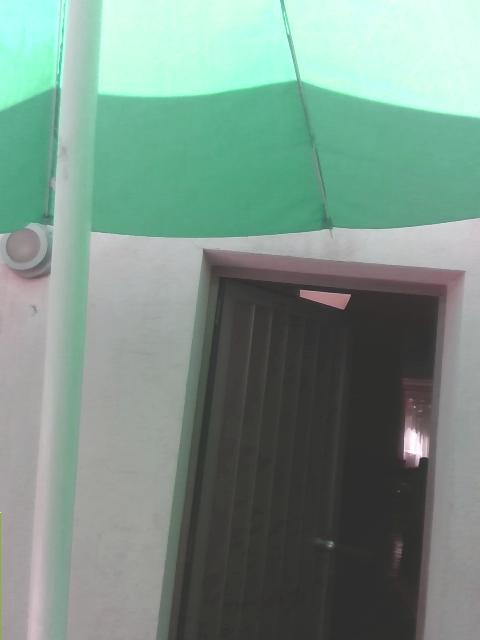semi_door: (159, 247, 467, 639)
